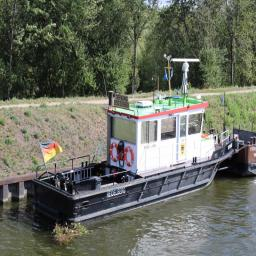tugboat: (33, 58, 241, 235)
